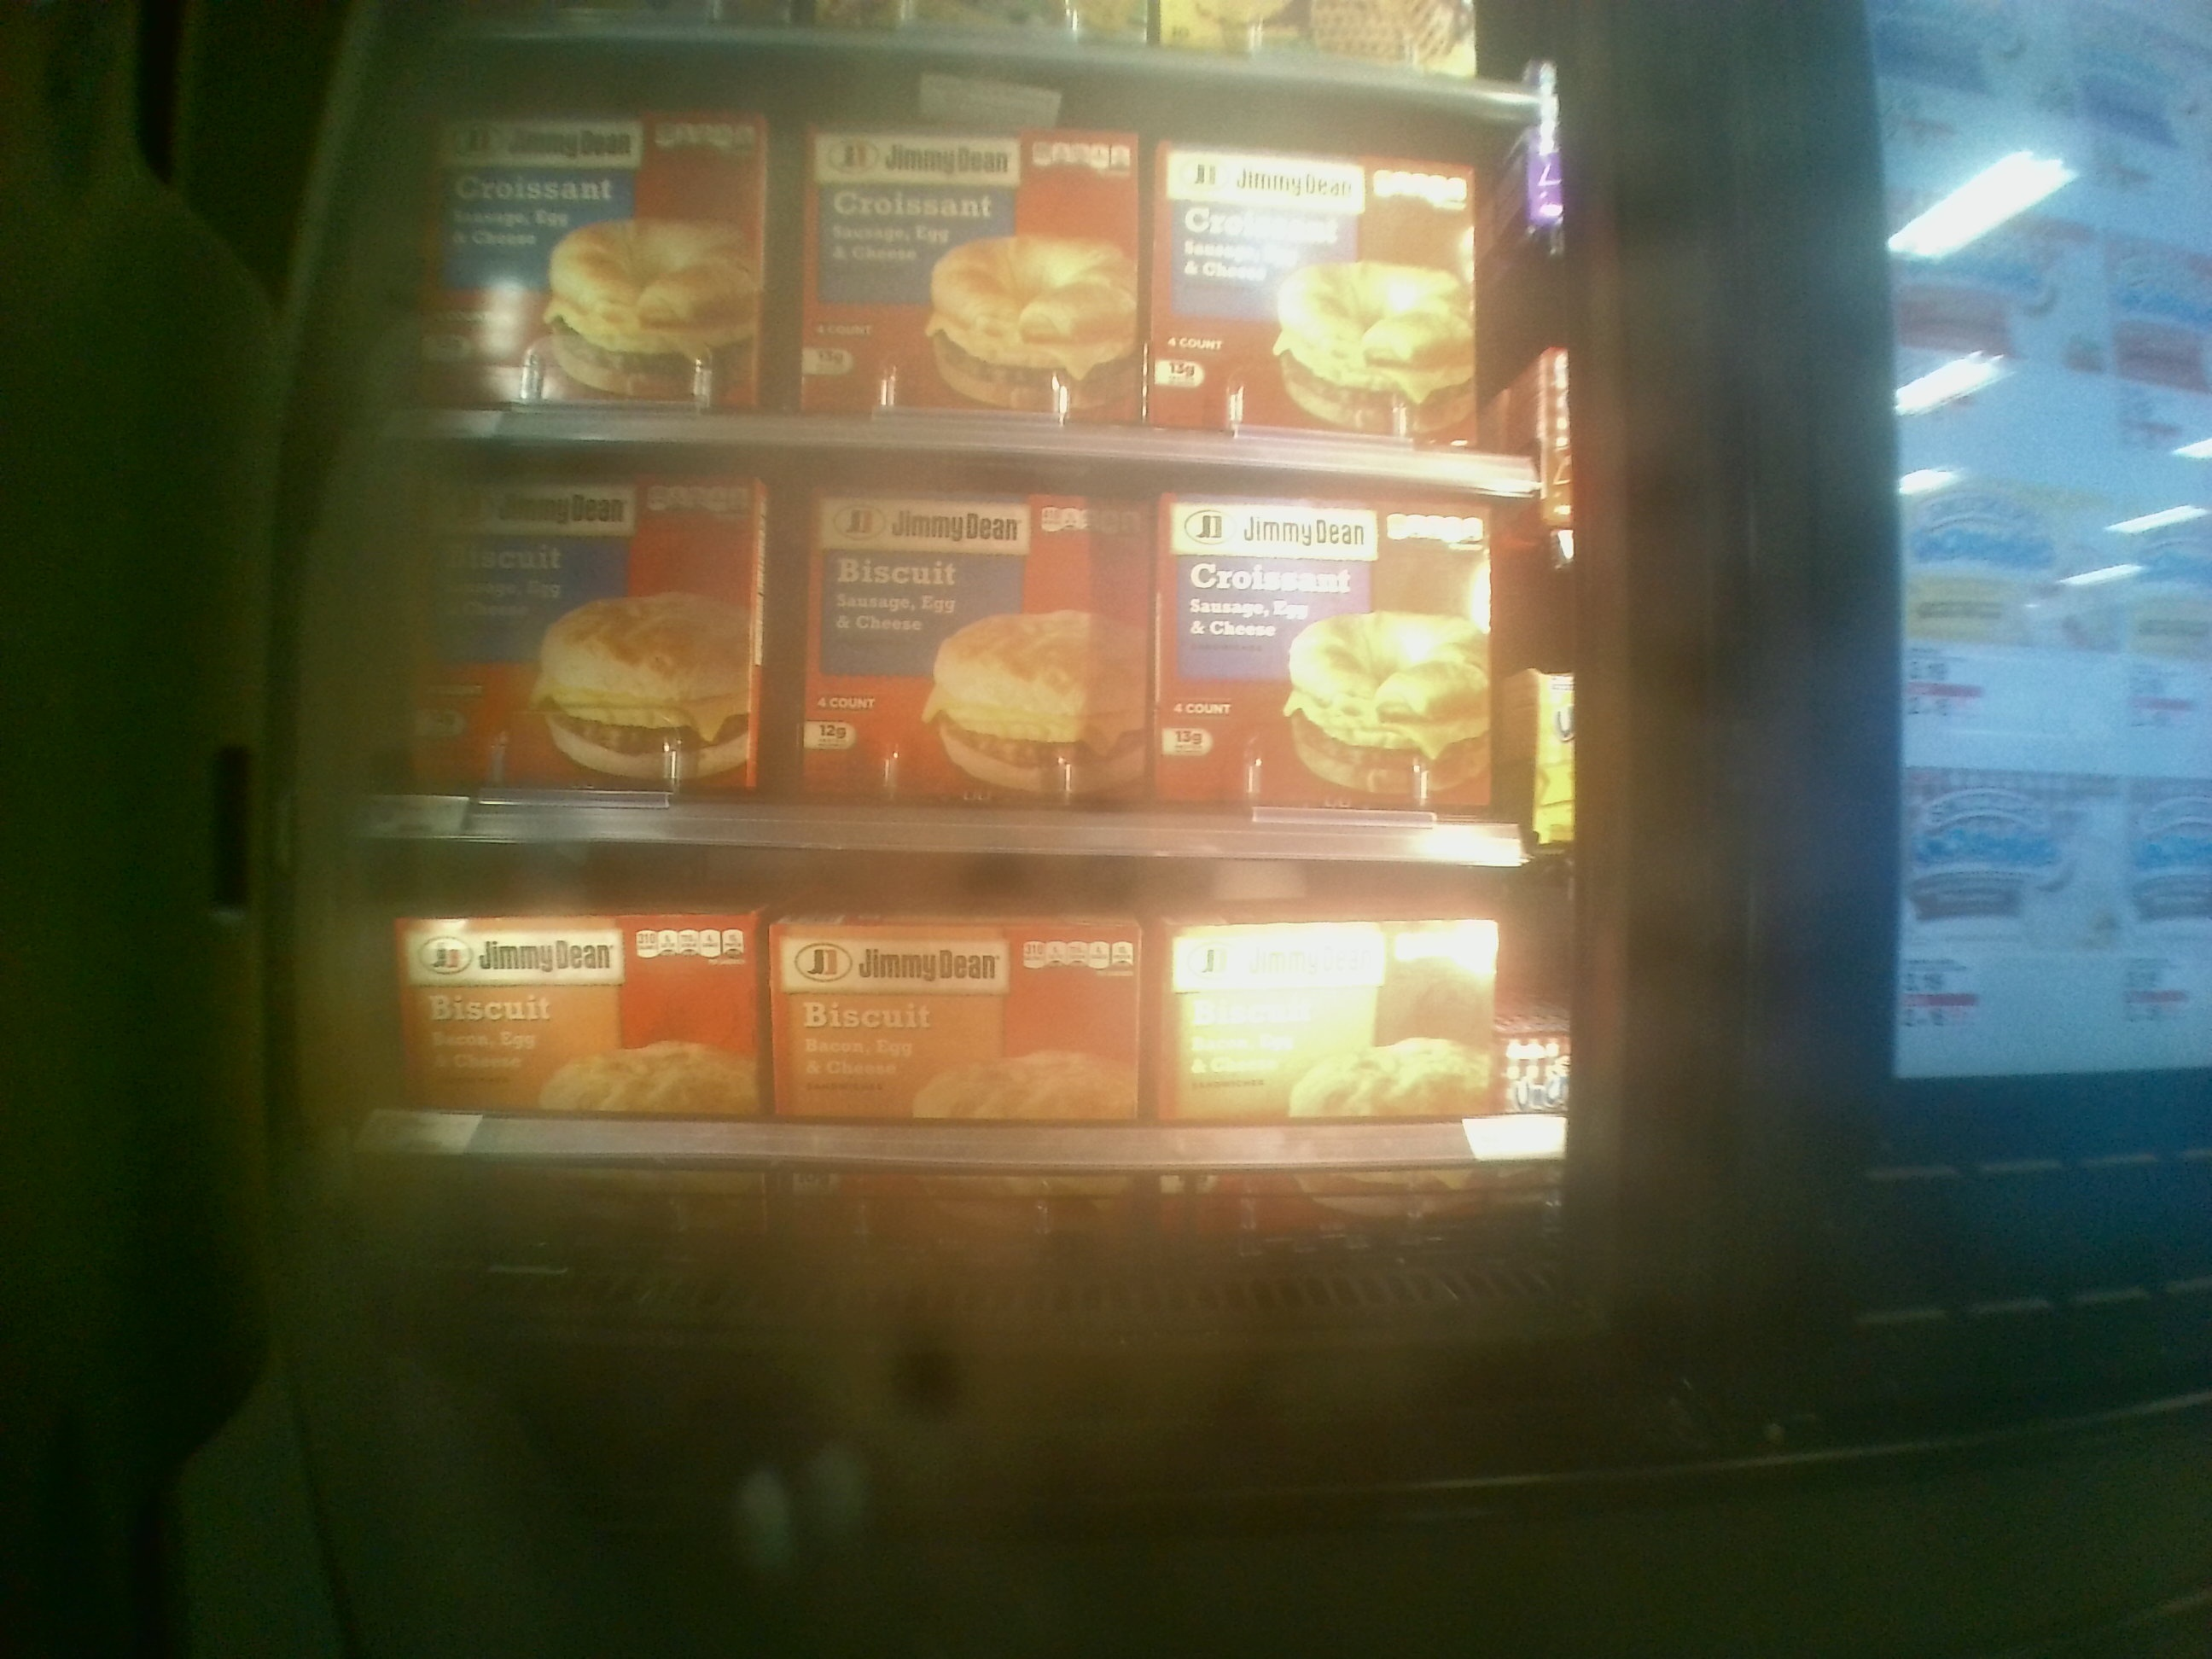shelf: (331, 854, 1576, 1297), (331, 432, 1526, 859)
